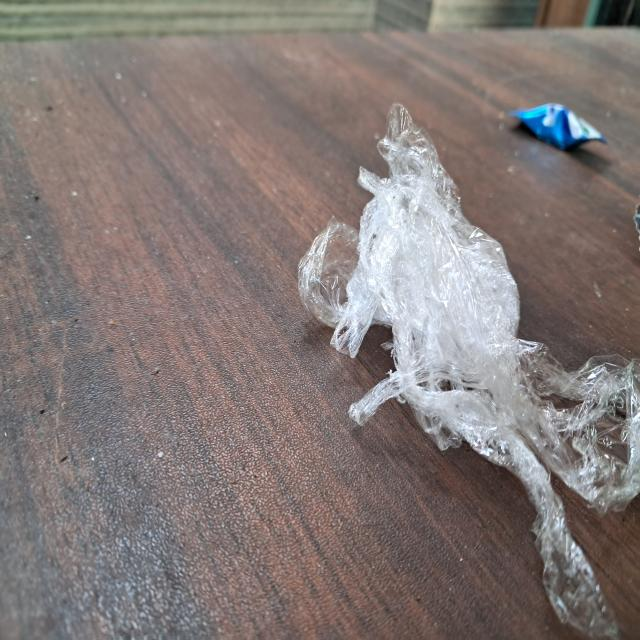Anorganik: (274, 83, 640, 640)
